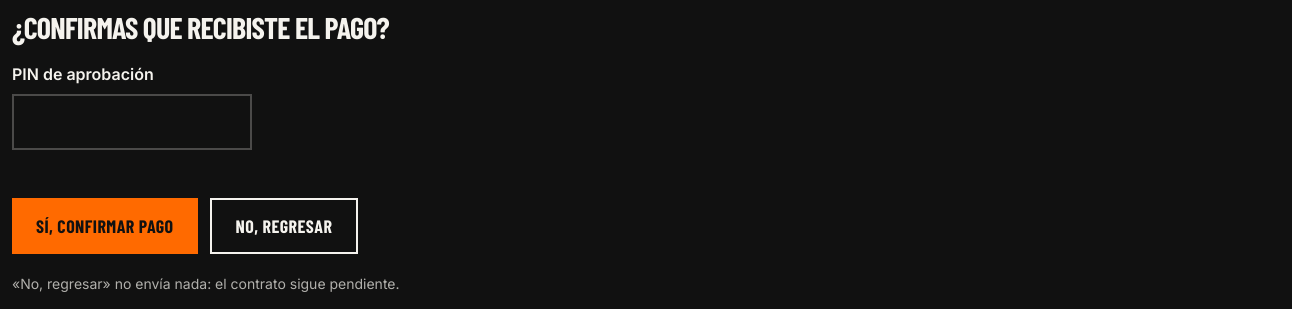
Test: ConfirmTransferForm (RF-11) › envía solo { token, pin } y muestra el pago confirmado
Type "482917" into the password field labelled "PIN de aprobación".
click(132, 122); type("482917")  # box [12,94,252,150]
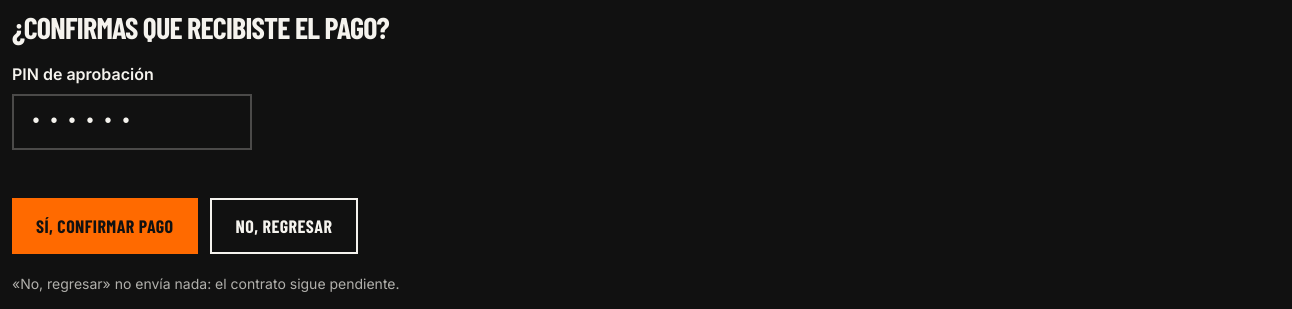
Click the button "Sí, confirmar pago".
click(105, 226)  # box [12,198,198,254]
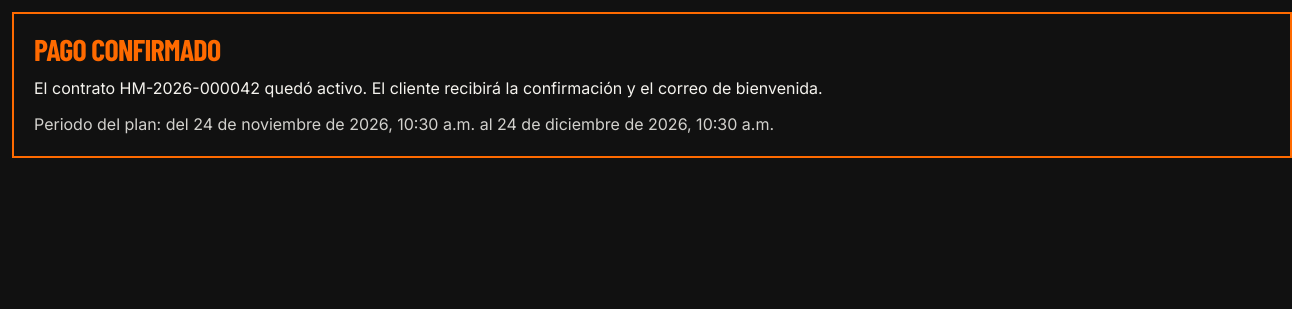
Expected: the heading "Pago confirmado" is shown, [34,31,220,67]
Expected: the text "24 de diciembre de 2026" is shown, [34,114,774,134]
